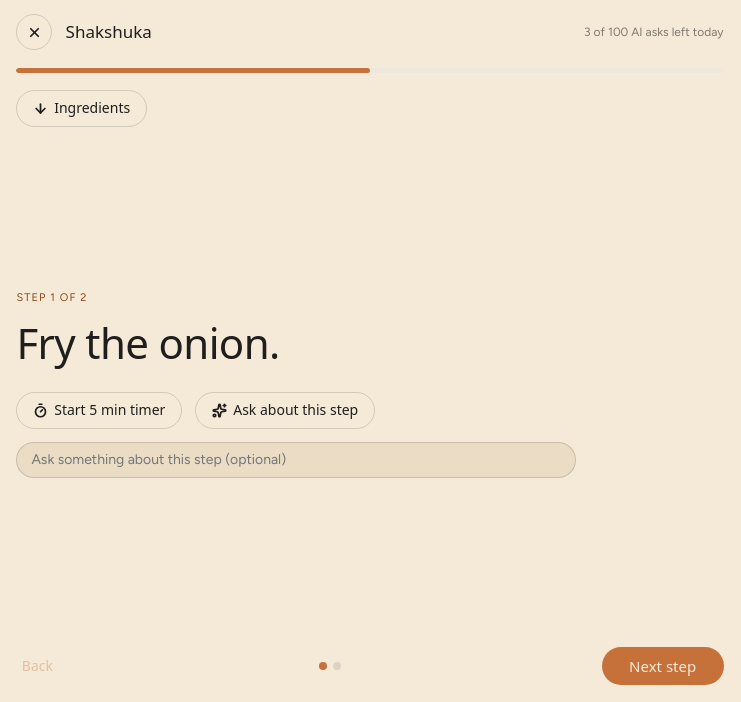
Scenario: CookScreen › COOK-2/COOK-9 asks about the step on screen and shows the answer
What coordinates should you click on to do the following:
click the button "Ask about this step"
I would click on:
 (285, 410)
Its box is [195,392,375,429].
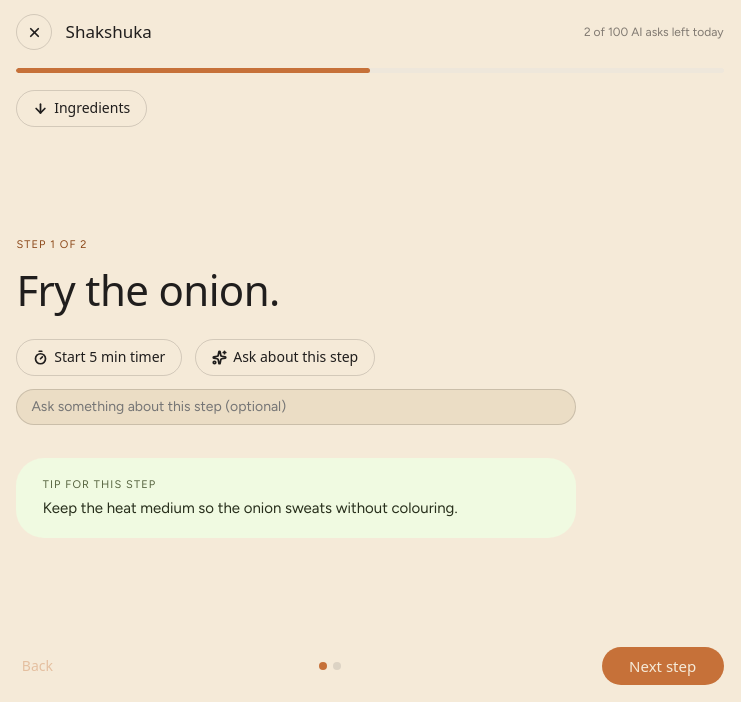
Result: the text "Keep the heat medium so the onion sweats without colouring." is shown at [43,499,458,517]
Result: the text "2 of 100 AI asks left today" is shown at [584,23,724,41]
